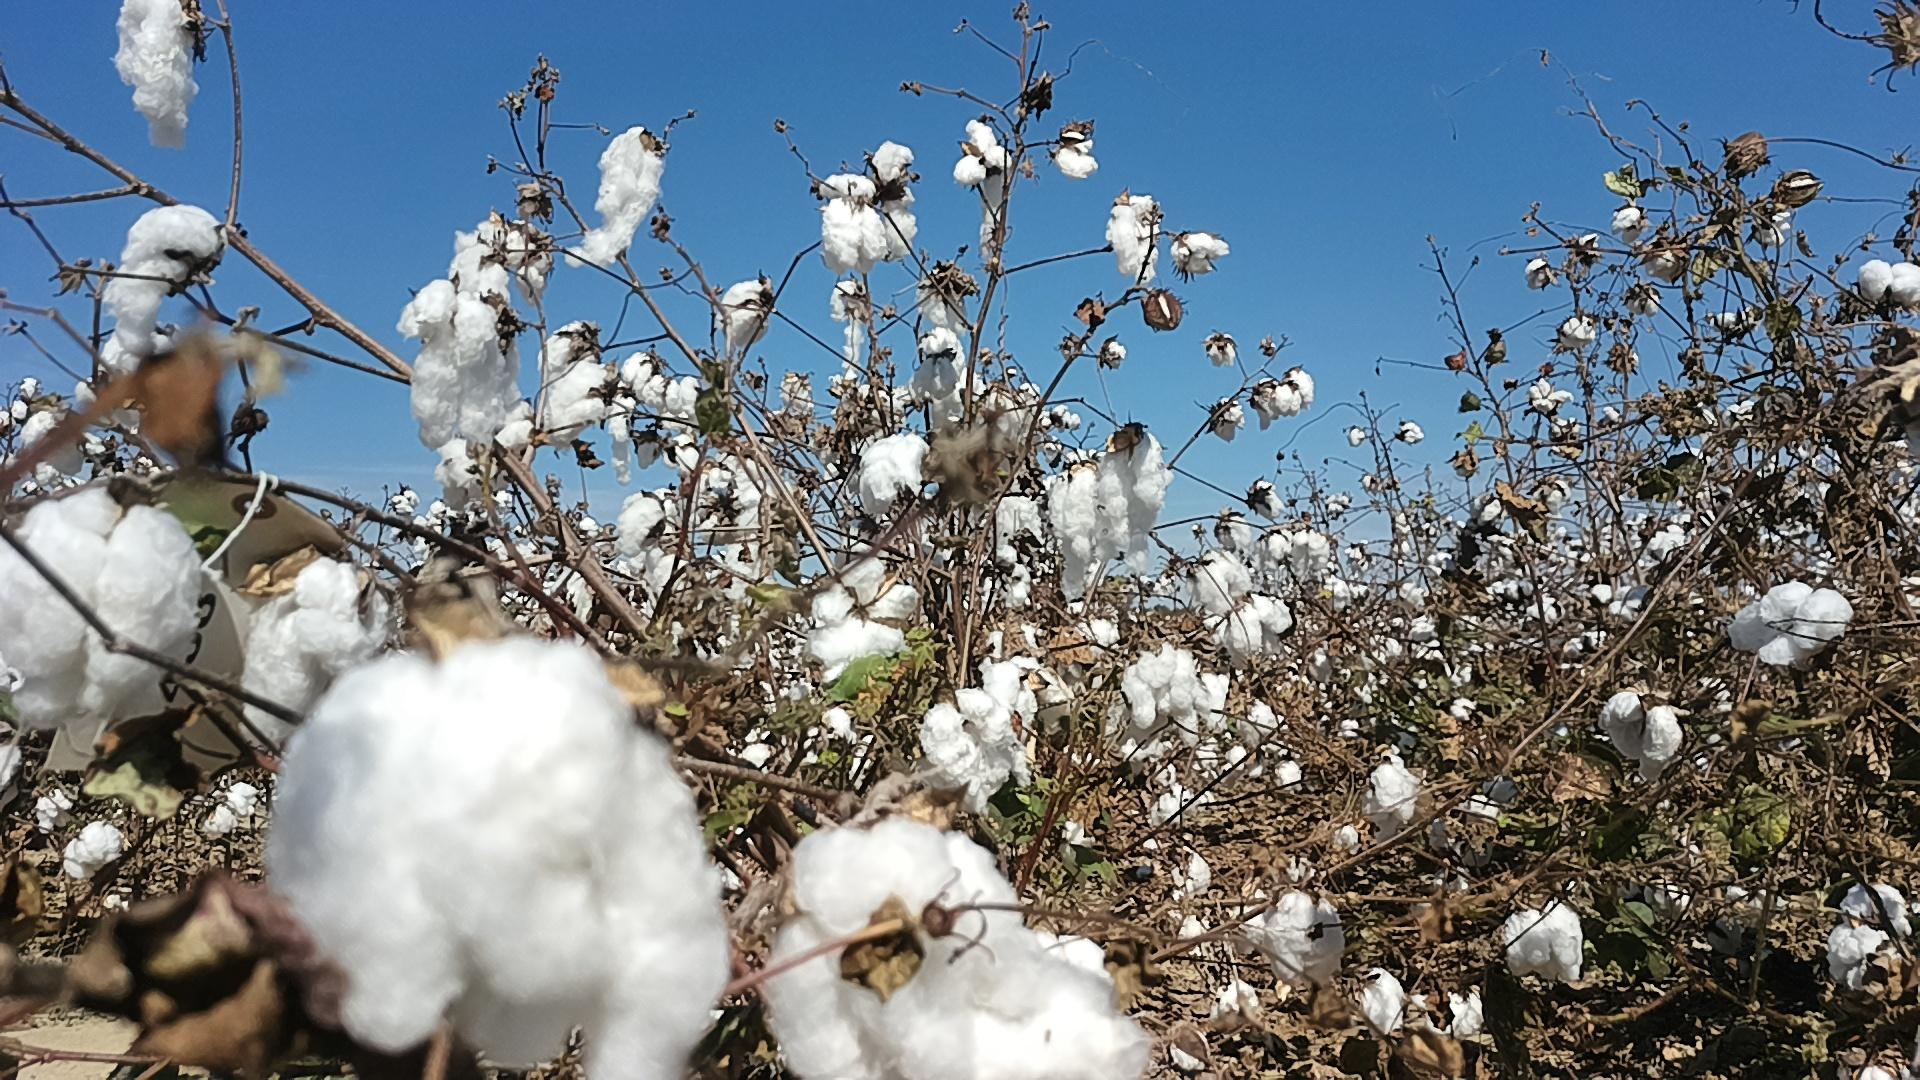cotton_ready: (260, 641, 736, 1080), (762, 814, 1160, 1080), (0, 493, 214, 721), (233, 555, 390, 746), (1048, 426, 1168, 603), (104, 198, 228, 359), (400, 284, 518, 451), (566, 128, 669, 272), (802, 555, 928, 669), (112, 0, 206, 148), (918, 694, 1029, 804), (1724, 578, 1855, 667), (1116, 638, 1218, 746), (1345, 963, 1486, 1039), (976, 493, 1062, 613), (1821, 881, 1908, 982), (448, 215, 553, 299), (978, 655, 1077, 733), (609, 356, 669, 483), (1269, 886, 1348, 981), (1502, 899, 1586, 988), (686, 465, 775, 549), (542, 360, 625, 446), (822, 171, 893, 265), (1604, 692, 1684, 767), (1358, 748, 1420, 837), (858, 430, 928, 509), (1225, 599, 1300, 669), (1106, 189, 1158, 281), (539, 323, 603, 375), (717, 281, 767, 345), (616, 493, 666, 558), (1858, 256, 1920, 307)
